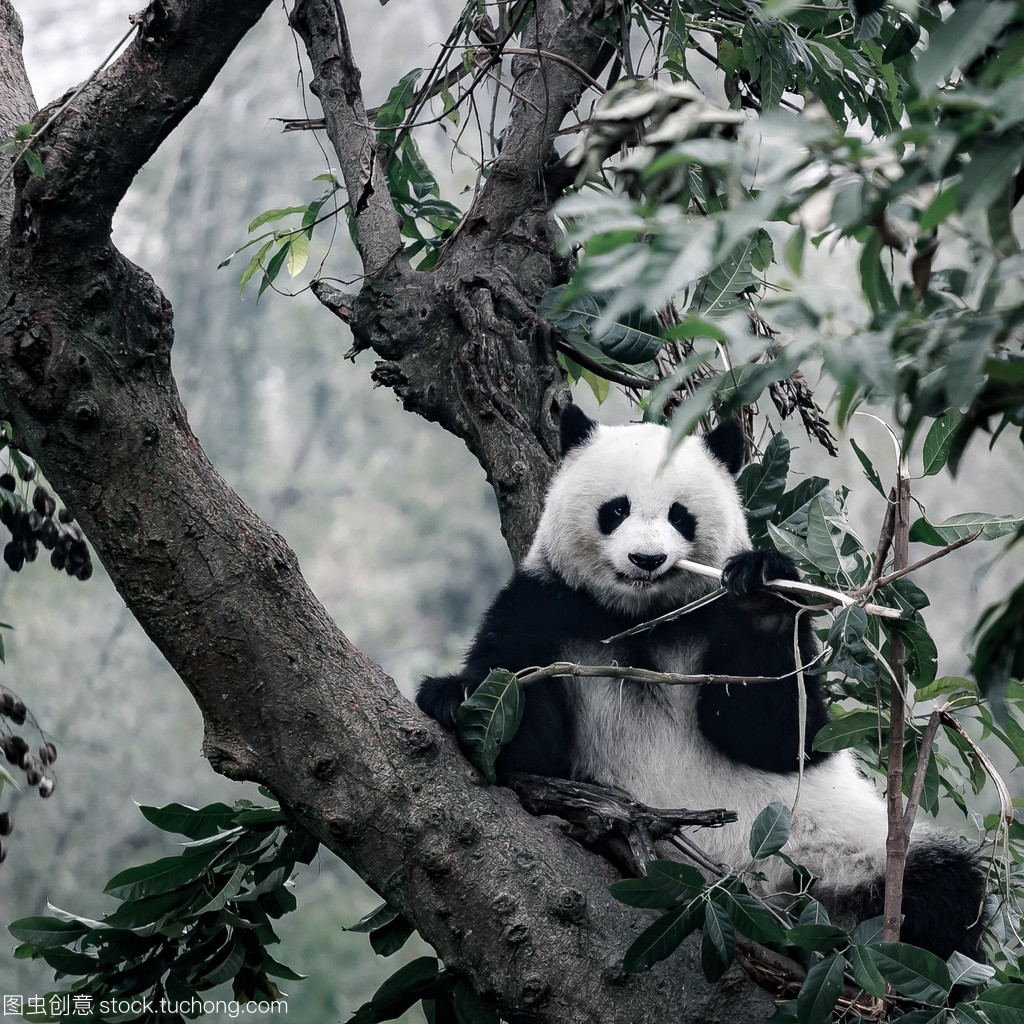panda: (441, 398, 984, 966)
